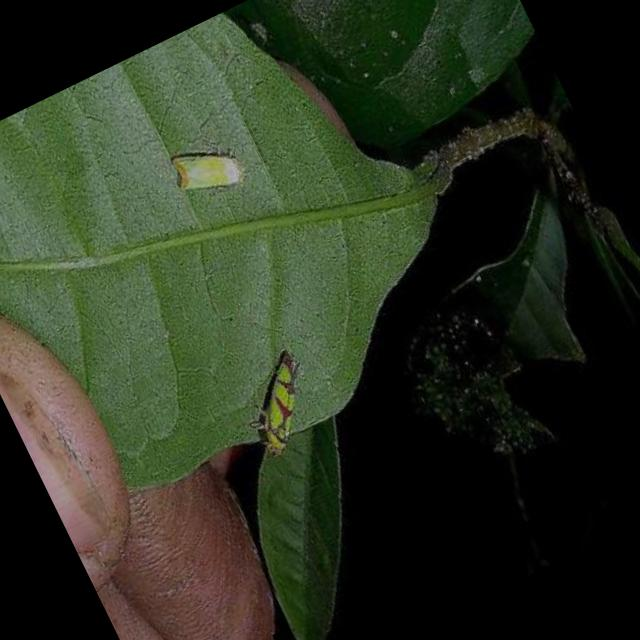green-leafhopper: (220, 339, 331, 465), (152, 124, 262, 226)
